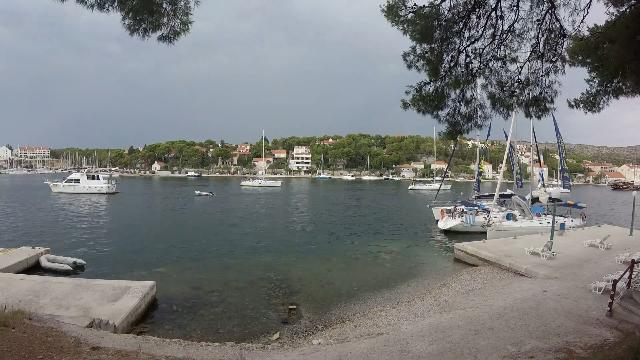Sailboat: (233, 173, 287, 191), (407, 175, 455, 194)
ferry: (40, 168, 124, 198)
speedboat: (190, 185, 218, 200)
